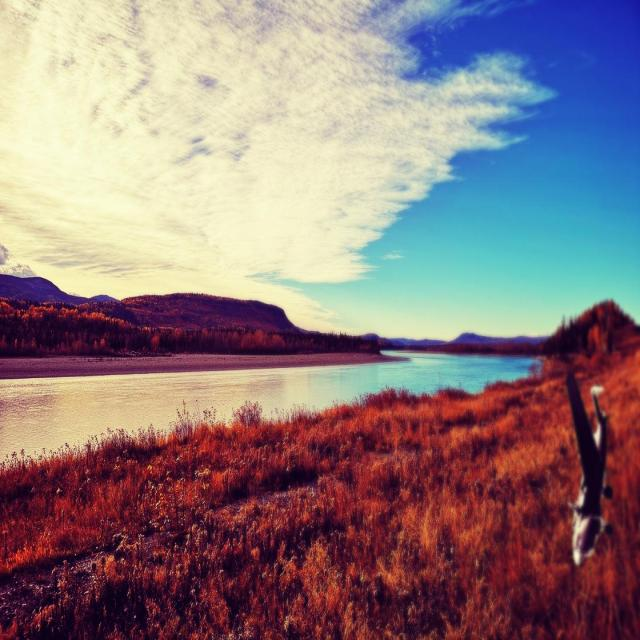airplane: (565, 370, 611, 566)
